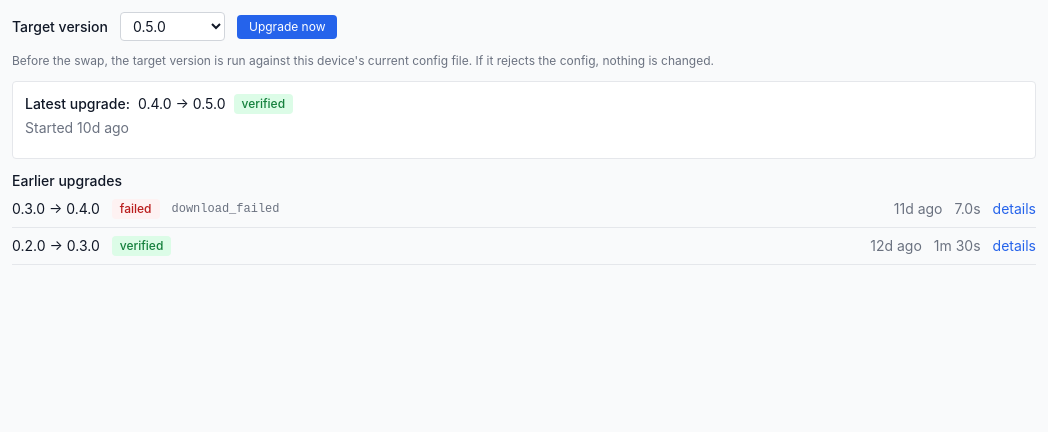
Test case: UpgradePanel history › fetches the detail endpoint when a row is expanded
This screenshot has width=1048, height=432.
Click the button "details" next to "7.0s" at (1014, 209), box [993,199,1036,219]
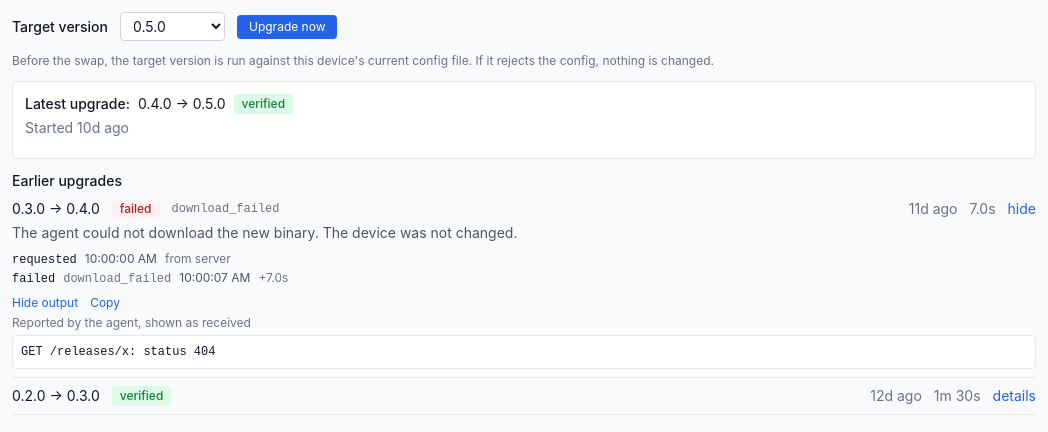
Check: the list item that starts with "failed" shows "The agent could not download the new binary. The device was not changed.", box [12,224,518,241]
Check: the text "GET /releases/x: status 404" is shown, box [12,335,1036,369]
